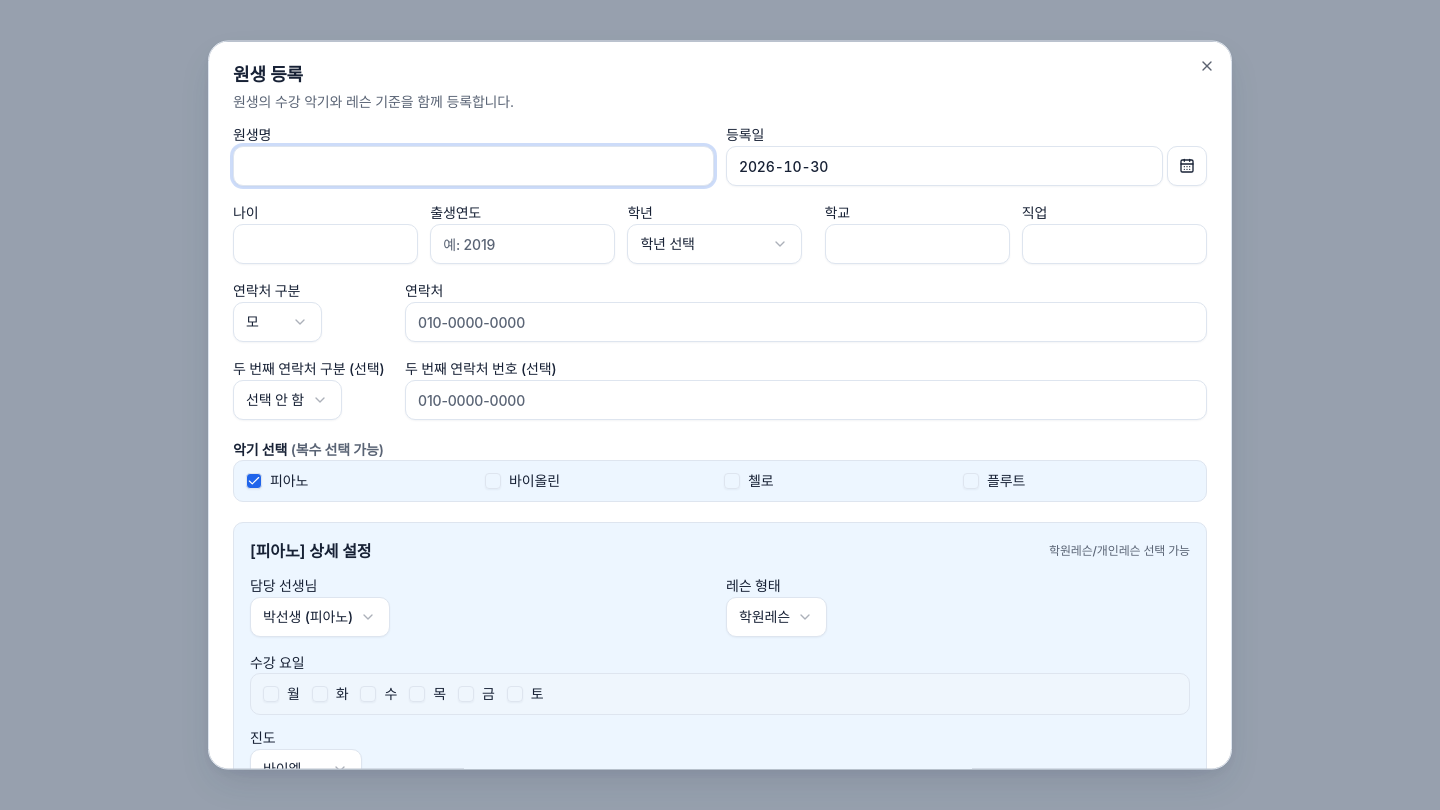
Test: StudentRegistrationDialog › 범위를 벗어난 나이와 완성되지 않은 출생연도는 그대로 보여 주고 가까이에서 안내한다
Step 1. Type "999" into the field labelled "나이" → (326, 244), box x1=233 y1=224 x2=418 y2=264
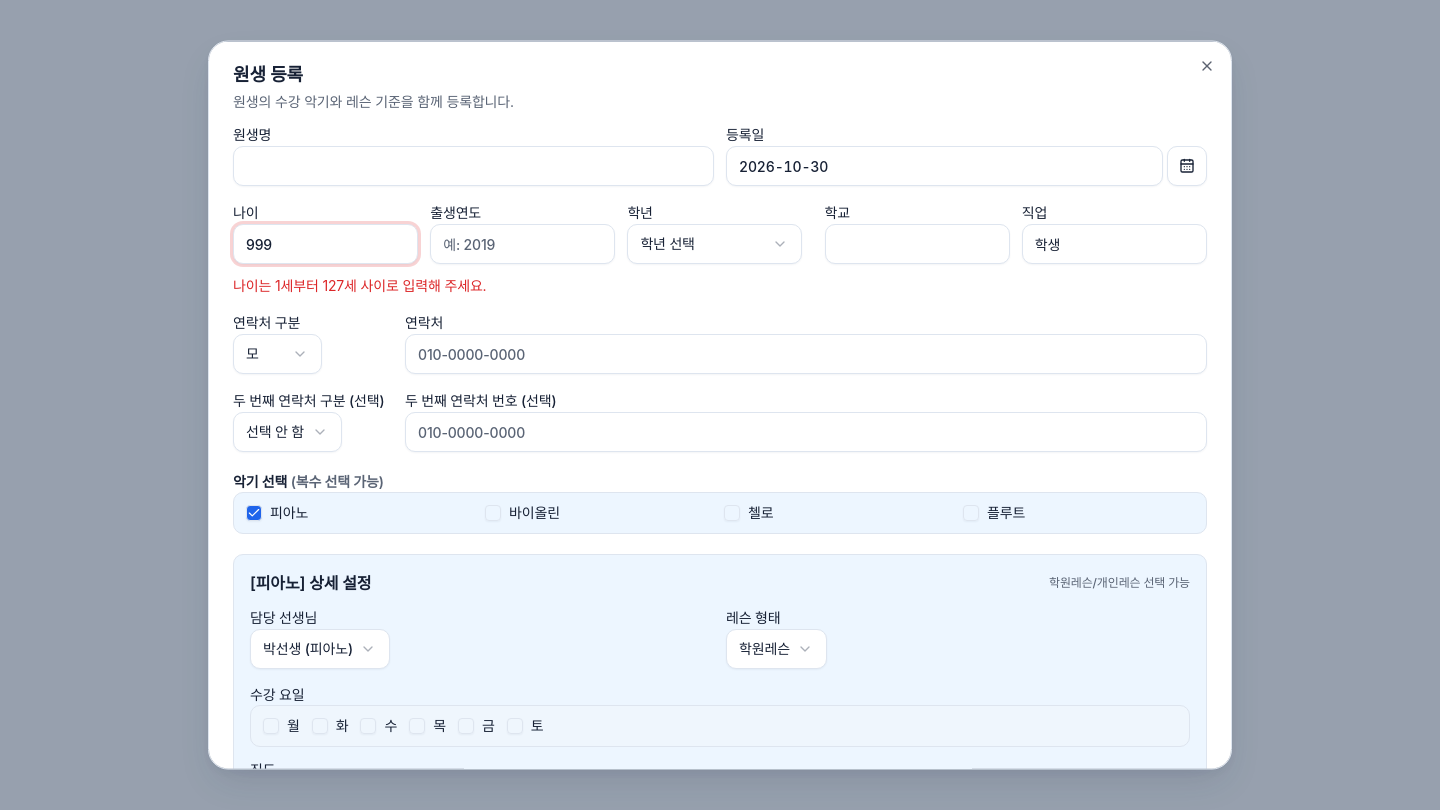
Result: the message shows "1세부터 127세" at x1=233 y1=276 x2=486 y2=294
Step 2. Clear the field labelled "나이" → (326, 244), box x1=233 y1=224 x2=418 y2=264
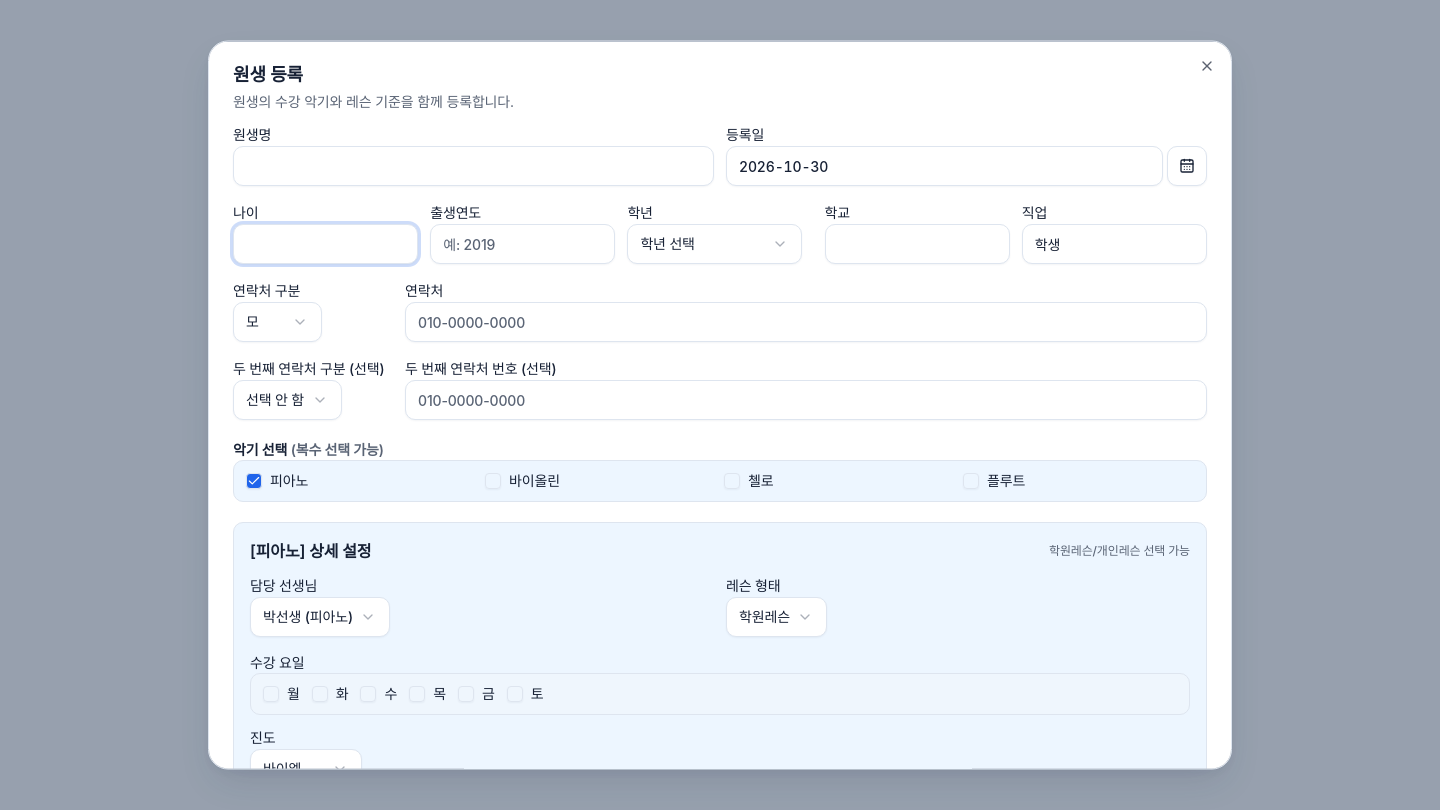
Step 3. Type "20" into the field labelled "출생연도" → (523, 244), box x1=430 y1=224 x2=615 y2=264
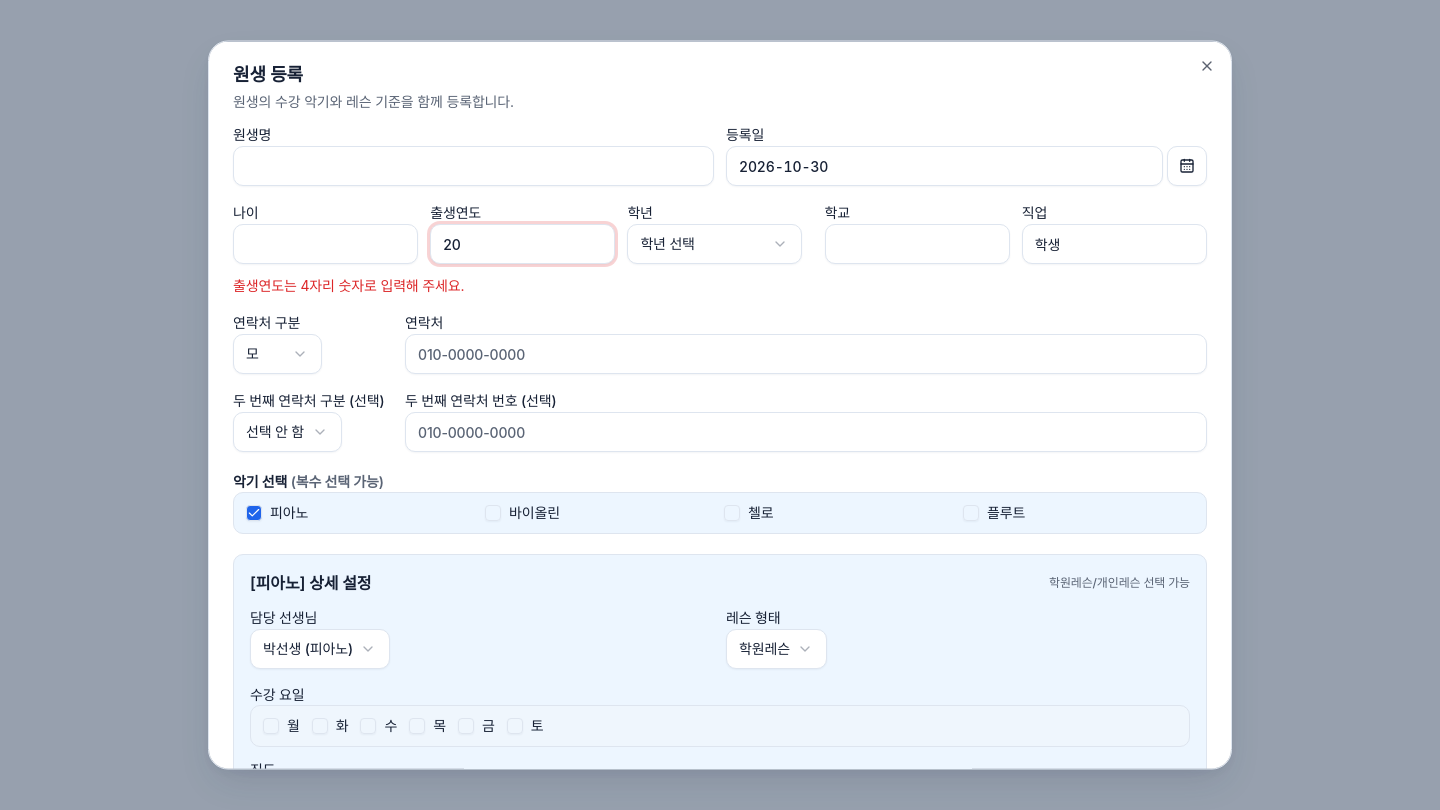
Result: the message shows "4자리" at x1=233 y1=276 x2=464 y2=294
